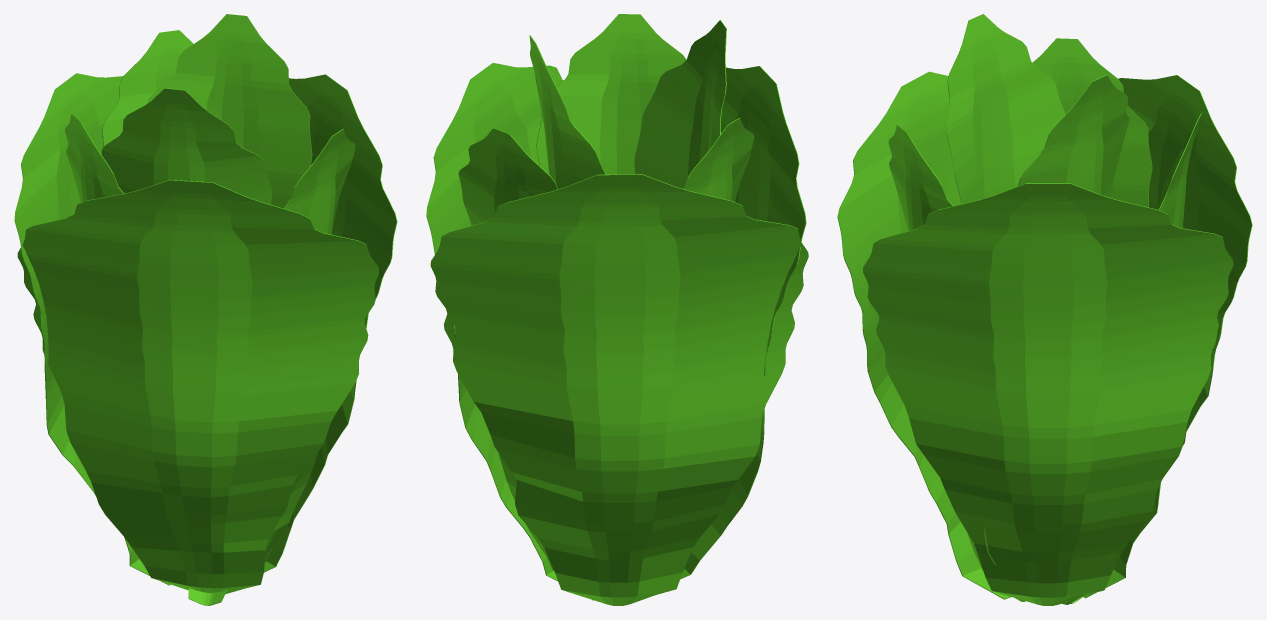
The model's file is lettuce2.fbx.
3 views of the same model, side by side, from view 1: azimuth 30°, elevation 25°; view 2: azimuth 150°, elevation 25°; view 3: azimuth 270°, elevation 25° (orthographic). The views are drawn at different scales.
Parts seen in each view (by area): view 1: lettuce stage 2; view 2: lettuce stage 2; view 3: lettuce stage 2.
Part boxes in pixels (left/top/right/bottom): lettuce stage 2: left=14, top=14, right=397, bottom=605; lettuce stage 2: left=426, top=14, right=808, bottom=605; lettuce stage 2: left=837, top=14, right=1252, bottom=605.
Bounding box in the file's own units: 49.73 × 81.21 × 55.84.
